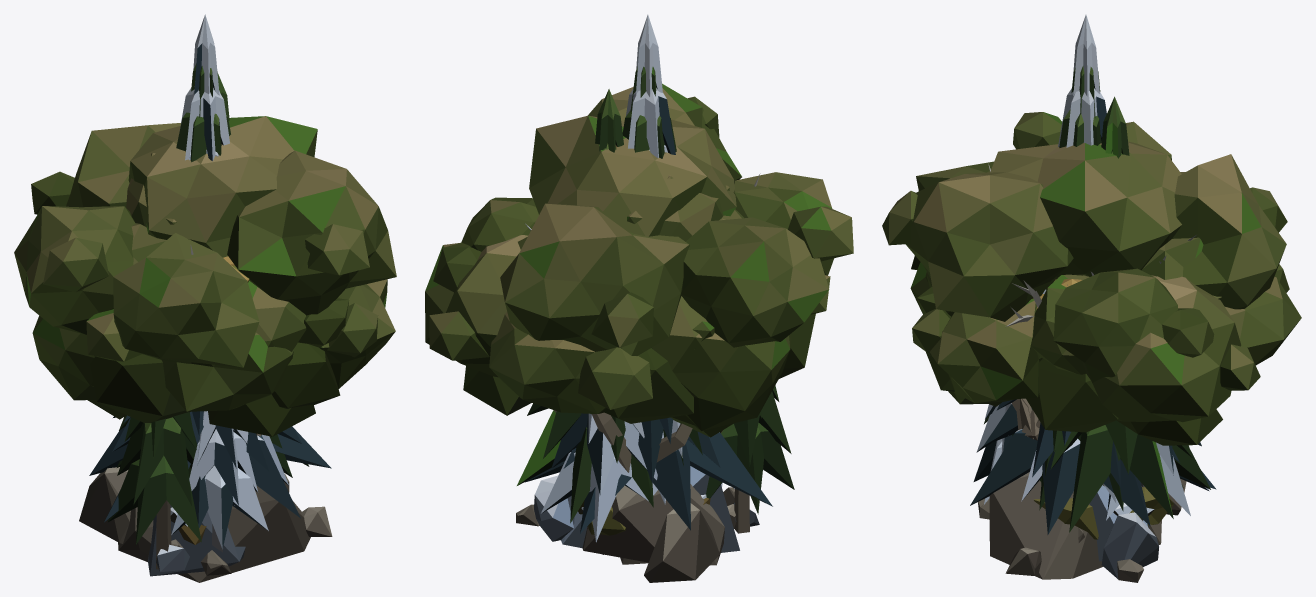
Rendered from PROPS.glb.
3 views of the same model, side by side, from view 1: azimuth 30°, elevation 25°; view 2: azimuth 150°, elevation 25°; view 3: azimuth 270°, elevation 25° (orthographic).
Parts seen in each view (by area): view 1: Oak1, Oak3, Rock1, Pine2, SnowPine3, Oak2, SnowPine2, SnowPine1, SnowRock1, Pine1; view 2: Oak1, Oak3, Pine2, Rock1, SnowPine2, SnowPine3, SnowPine1, SnowRock1, Oak2, Pine1; view 3: Oak1, Oak3, Rock1, Pine2, SnowPine2, Oak2, SnowPine1, SnowRock1, SnowPine3, Pine1, Bush2.
Boxes of the visible parts, box(x1,y1,x2,y2) form: Oak1: box(14, 116, 396, 422); Oak3: box(32, 279, 395, 436); Rock1: box(79, 467, 332, 582); Pine2: box(108, 73, 309, 569); SnowPine3: box(171, 411, 268, 552); Oak2: box(126, 153, 348, 351); SnowPine2: box(89, 411, 331, 528); SnowPine1: box(179, 14, 288, 505); SnowRock1: box(148, 505, 245, 576); Pine1: box(117, 64, 292, 477); Oak1: box(433, 83, 853, 423); Oak3: box(425, 235, 830, 472); Pine2: box(517, 89, 794, 533); Rock1: box(516, 484, 734, 582); SnowPine2: box(525, 417, 772, 533); SnowPine3: box(541, 413, 734, 554); SnowPine1: box(625, 14, 682, 504); SnowRock1: box(534, 466, 759, 552); Oak2: box(518, 175, 744, 349); Pine1: box(622, 66, 702, 465); Oak1: box(882, 112, 1287, 432); Oak3: box(910, 262, 1301, 445); Rock1: box(978, 472, 1186, 582); Pine2: box(984, 96, 1210, 532); SnowPine2: box(970, 399, 1216, 534); Oak2: box(917, 237, 1221, 406); SnowPine1: box(1021, 14, 1116, 503); SnowRock1: box(1089, 485, 1158, 578); SnowPine3: box(973, 403, 1209, 520); Pine1: box(1012, 66, 1183, 511); Bush2: box(1034, 486, 1173, 539).
Bounding box in the file's own units: 1.34 × 1.92 × 1.35.
